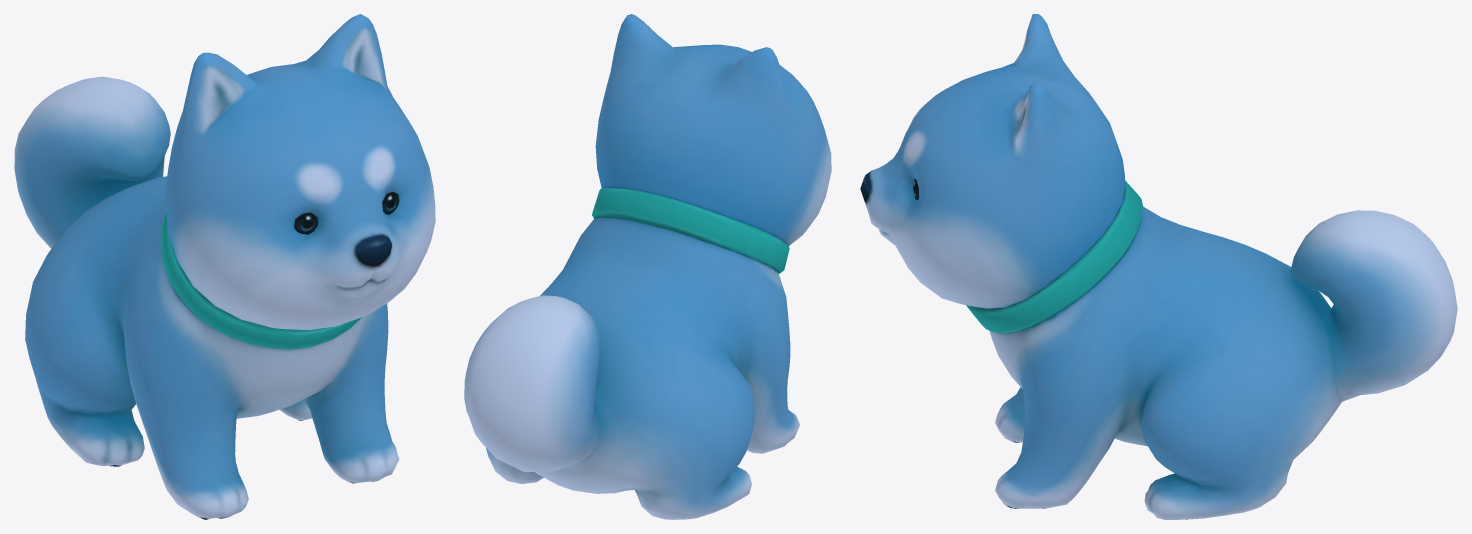
Rendered from blueMob.gltf.
3 views of the same model, side by side, from view 1: azimuth 30°, elevation 25°; view 2: azimuth 150°, elevation 25°; view 3: azimuth 270°, elevation 25° (orthographic). The views are drawn at different scales.
Visible parts, largest first — view 1: Box002, Group18985, Object001_default_0; view 2: Box002, Group18985; view 3: Box002, Group18985.
Boxes of the visible parts, x1,y1,x2,y2 form: Box002: [14, 14, 435, 519]; Group18985: [160, 211, 362, 349]; Object001_default_0: [294, 192, 399, 234]; Box002: [464, 14, 831, 519]; Group18985: [592, 188, 789, 273]; Box002: [860, 14, 1457, 519]; Group18985: [966, 181, 1143, 333].
Size of the model in its own units: 0.9209 by 1.38 by 1.77.
1 material, 1 textured.
